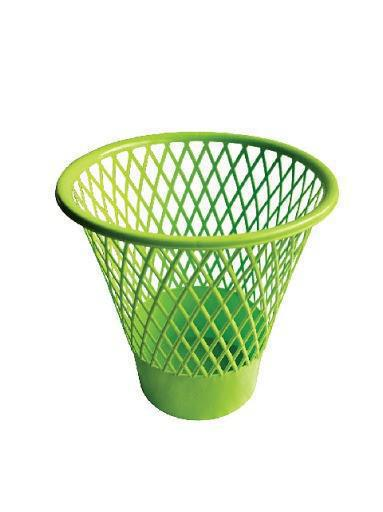Bote de Basura: (53, 134, 337, 421)
